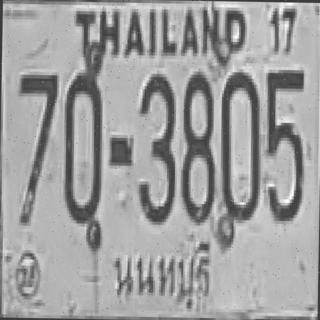N00: (218, 68, 260, 223), (62, 69, 103, 227)
N03: (136, 70, 176, 222)
N05: (263, 66, 304, 221)
N07: (15, 73, 57, 224)
N08: (180, 71, 216, 223)
P37: (113, 237, 213, 312)
